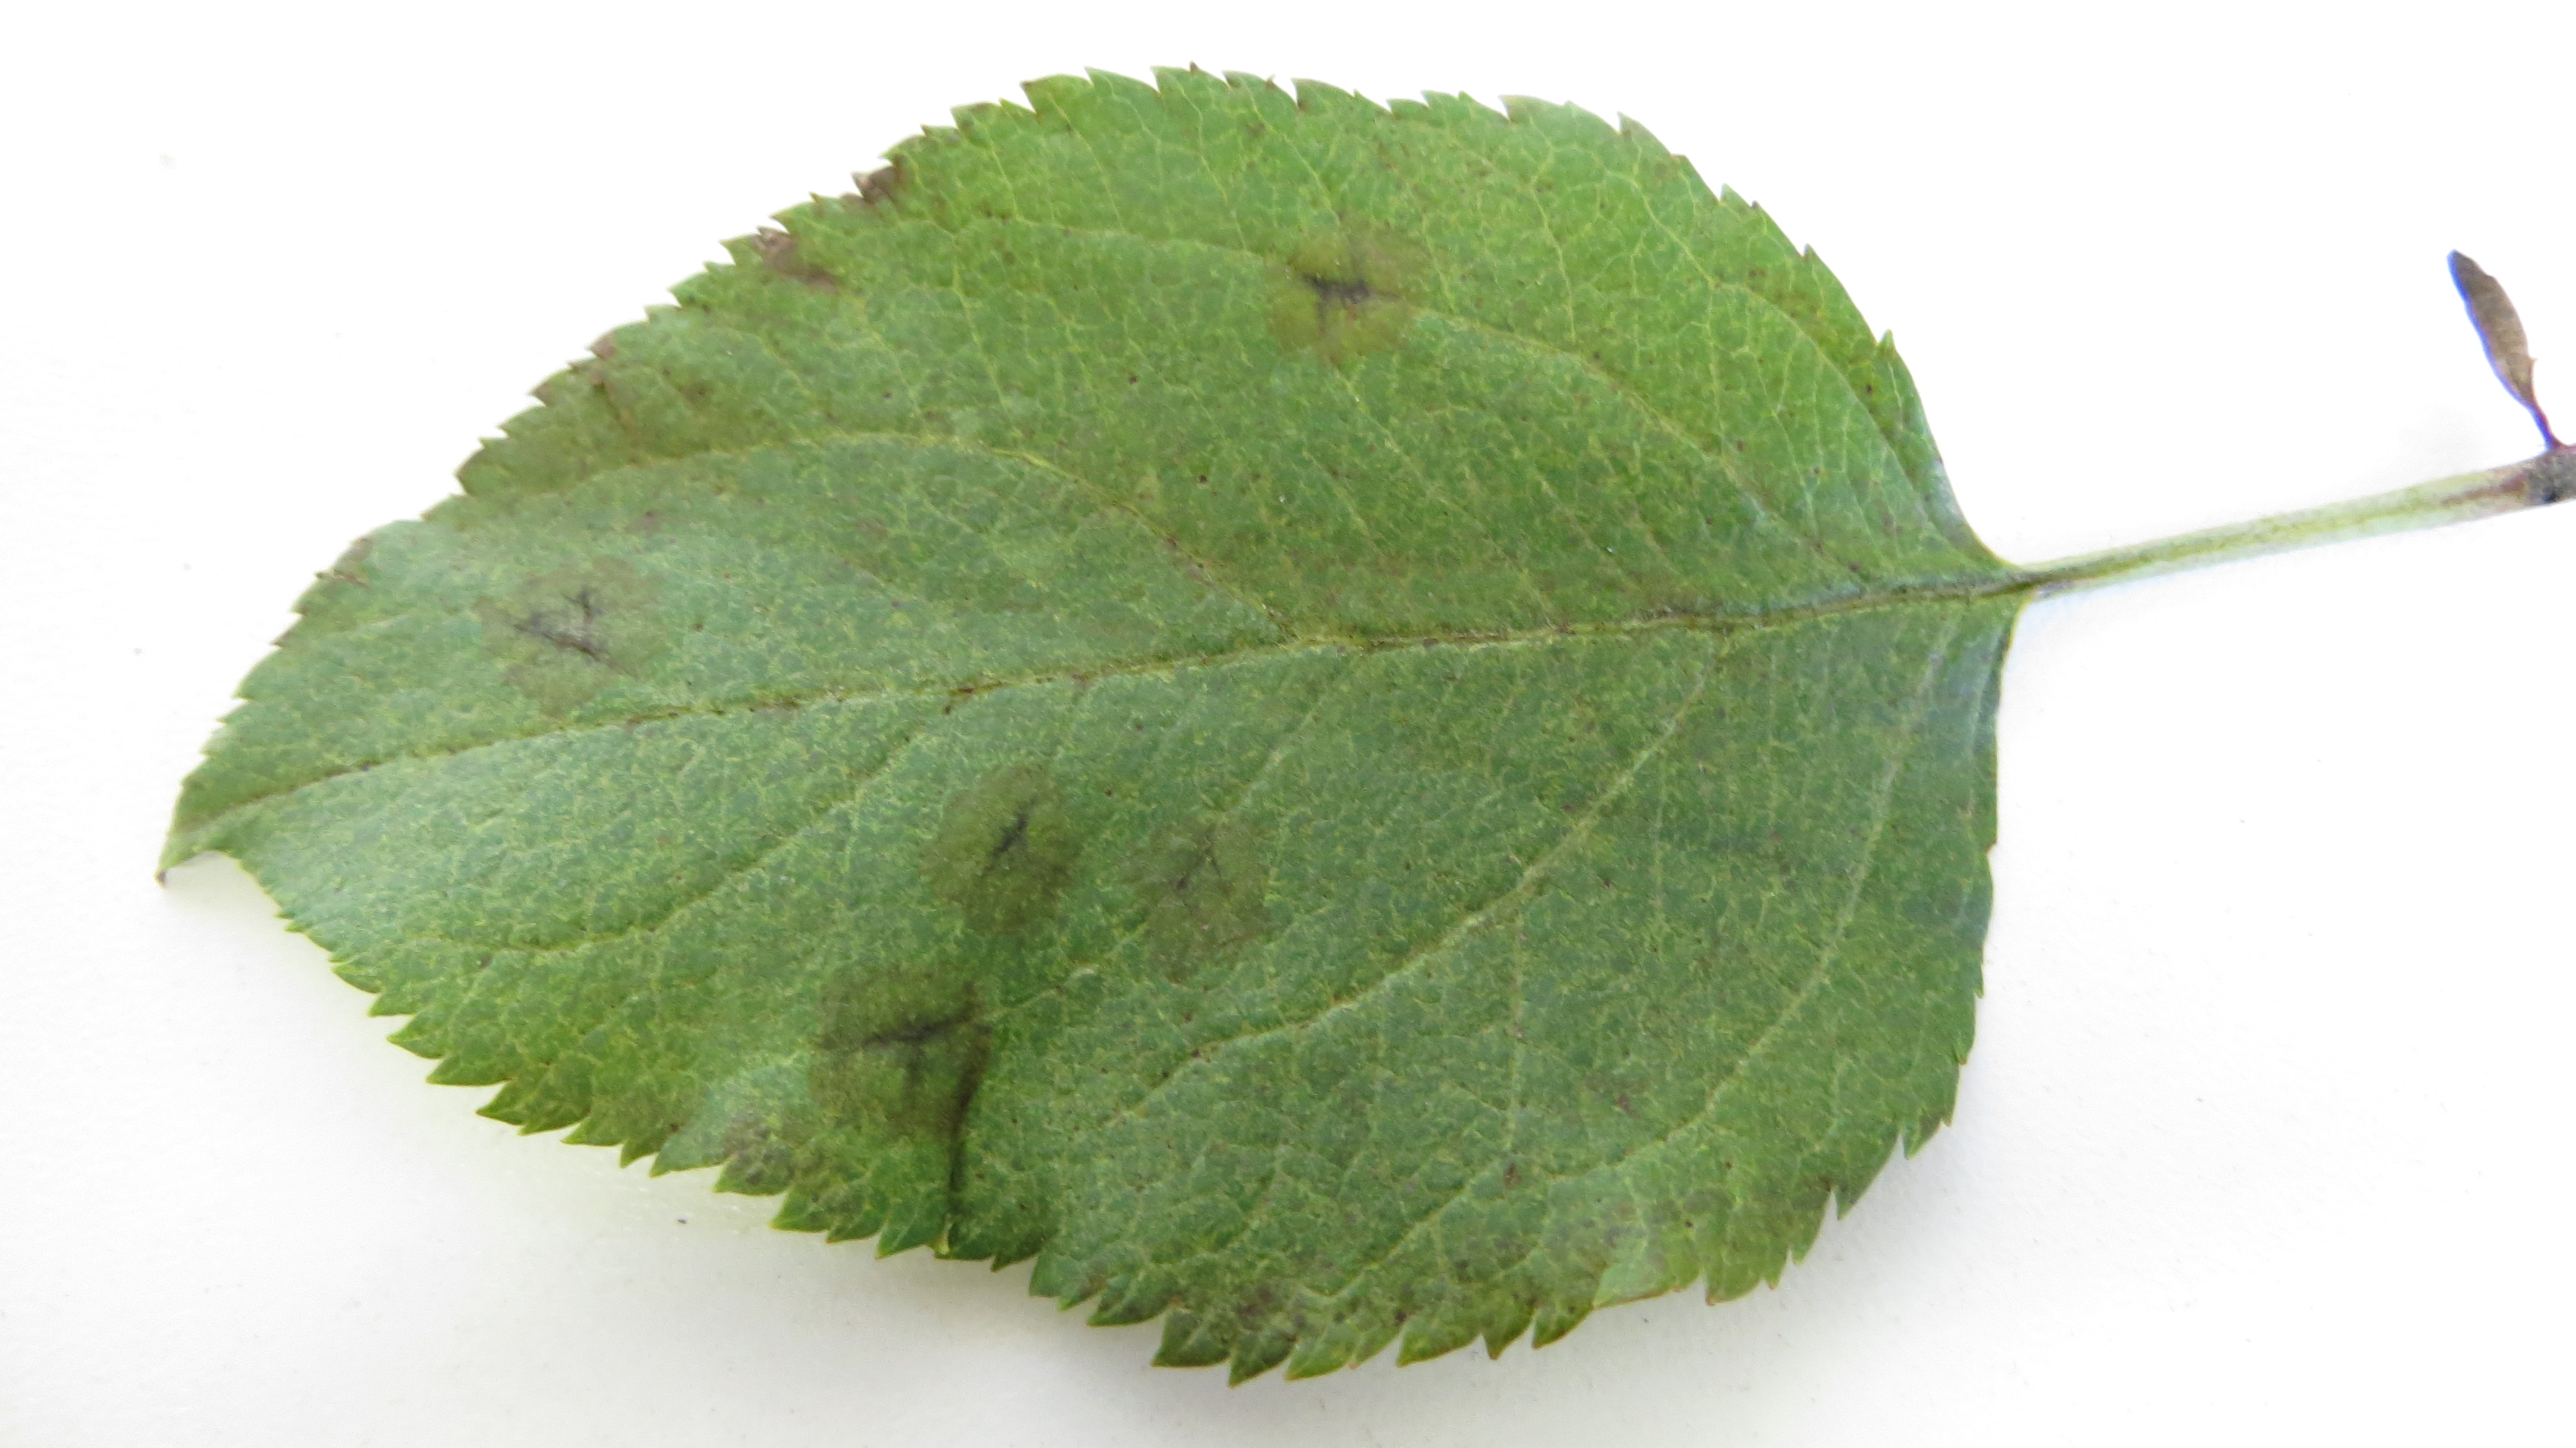sarna: (471, 558, 663, 720), (1261, 207, 1426, 375), (920, 754, 1085, 915), (867, 1055, 1003, 1244), (575, 361, 738, 515), (1125, 791, 1265, 967), (821, 954, 982, 1080), (738, 214, 863, 319), (731, 1106, 853, 1213), (828, 152, 943, 220)
